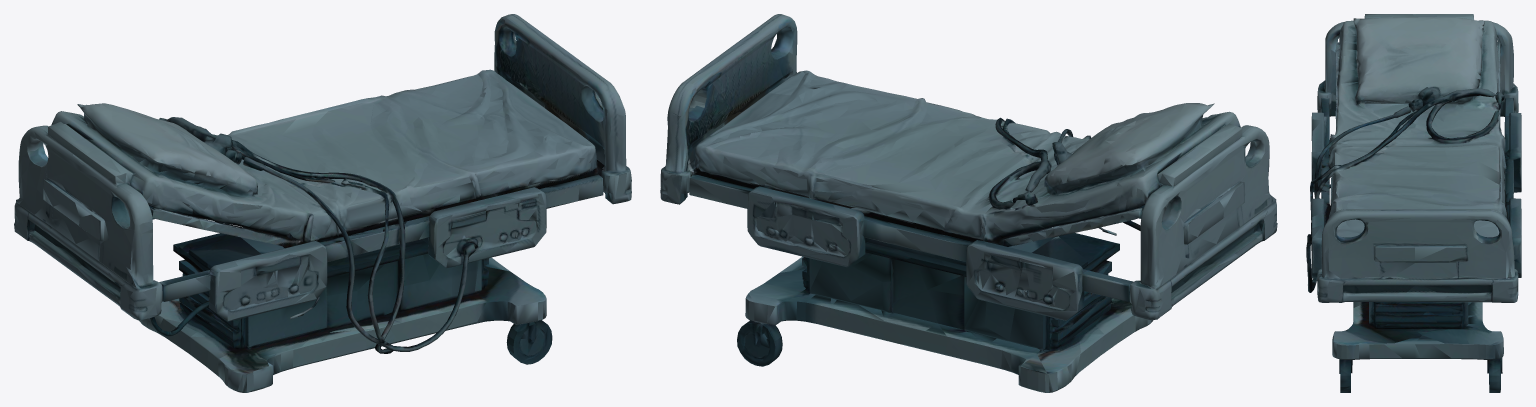
The model's file is camilla.fbx.
3 renders of one model, left to right at view 1: azimuth 30°, elevation 25°; view 2: azimuth 150°, elevation 25°; view 3: azimuth 270°, elevation 25°, orthographic. The views are drawn at different scales.
Parts seen in each view (by area): view 1: tripo_node_f7ccebc4; view 2: tripo_node_f7ccebc4; view 3: tripo_node_f7ccebc4.
Boxes of the visible parts, left/top/right/bottom form: tripo_node_f7ccebc4: left=14, top=14, right=631, bottom=392; tripo_node_f7ccebc4: left=660, top=14, right=1277, bottom=392; tripo_node_f7ccebc4: left=1306, top=14, right=1521, bottom=392.
Bounding box in the file's own units: 99.98 × 55.3 × 46.56.
